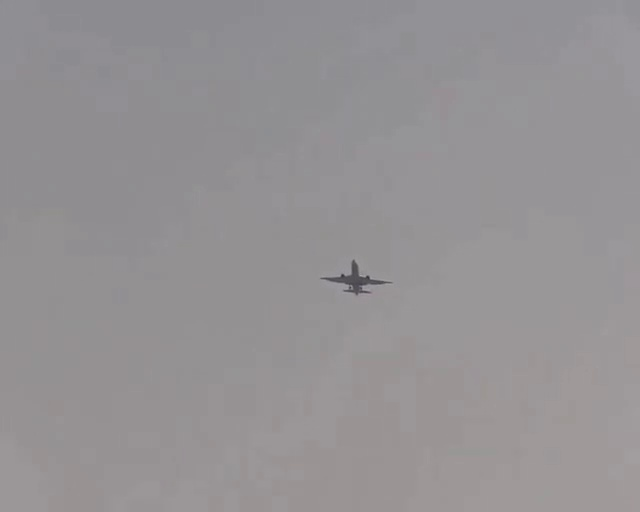AIRPLANE: (319, 259, 394, 295)
